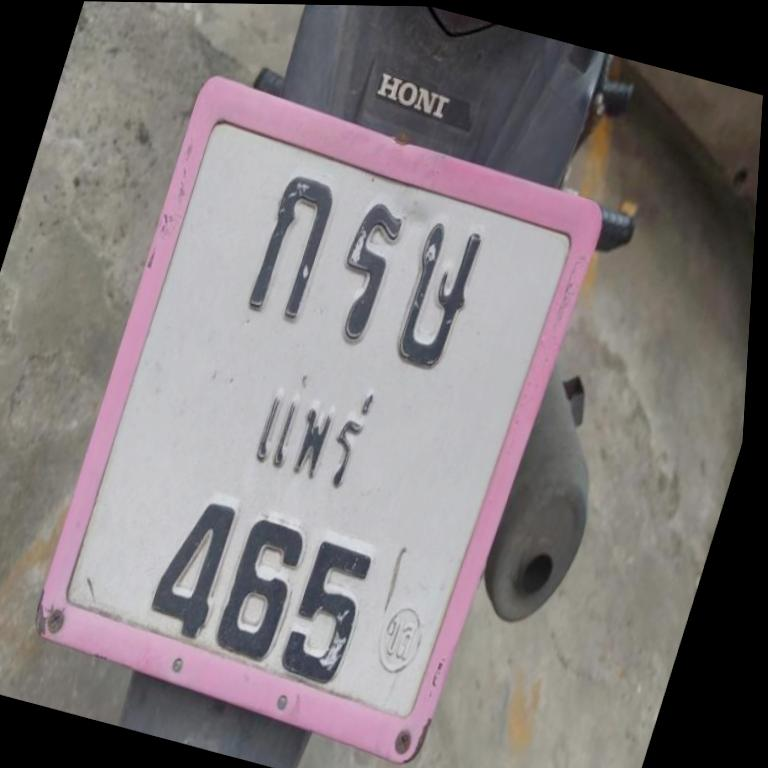license plate: (10, 69, 615, 768)
